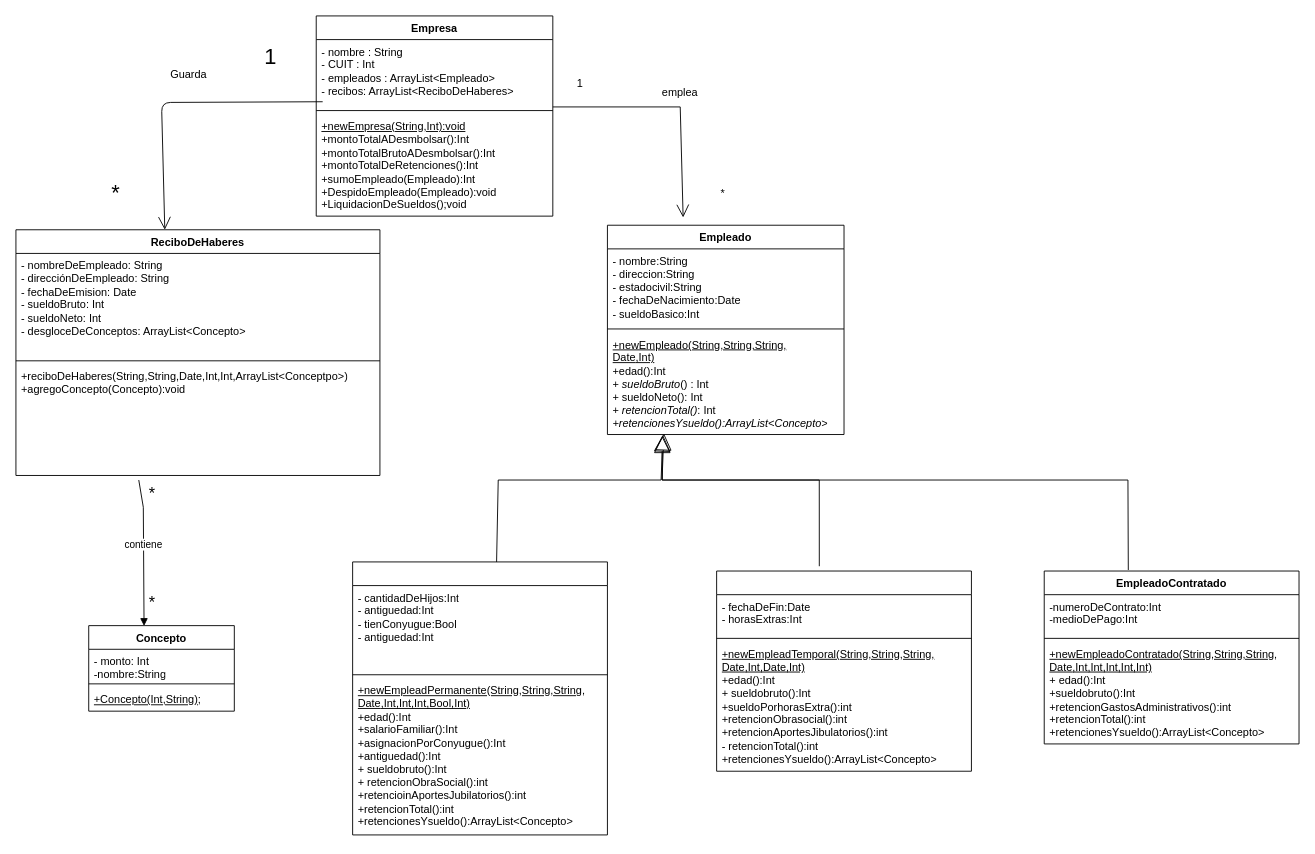
This 1315x854 diagram has some shape labels left out. The box of each missing label's shape, as (x1, y1, x2, y2) in pixels:
EmpleadoDePlantaPermanente: (352, 561, 607, 835)
EmpleadoDePlantaTemporaria: (716, 570, 971, 771)
